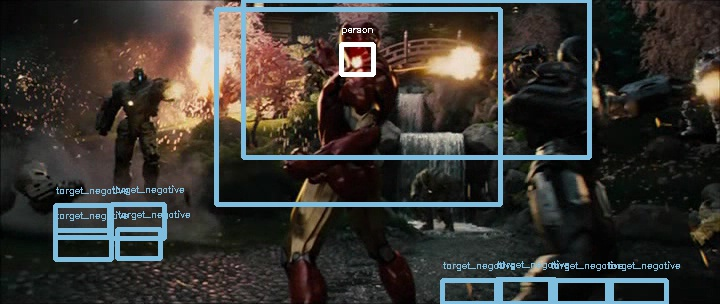person: (336, 15, 379, 67), (335, 15, 378, 67), (337, 15, 380, 67), (336, 14, 379, 66), (336, 16, 379, 68)
target_negative: (491, 89, 553, 263), (526, 55, 638, 143), (265, 149, 323, 219), (714, 256, 720, 288), (711, 115, 712, 131)
